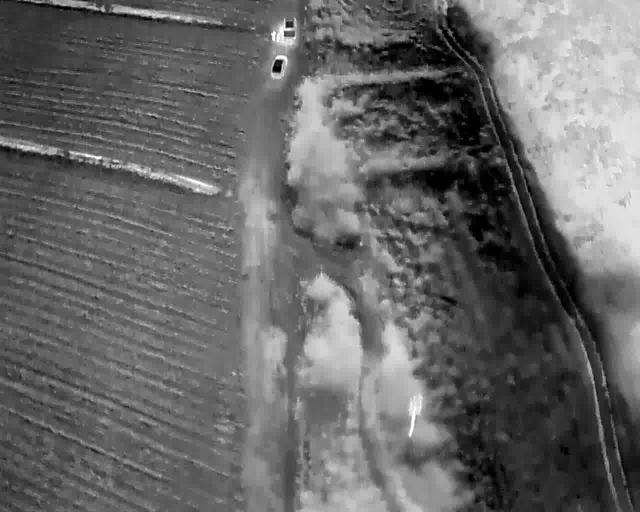car: (271, 53, 287, 80), (282, 15, 297, 40)
person: (278, 24, 284, 37), (270, 30, 276, 42), (276, 31, 281, 42)
